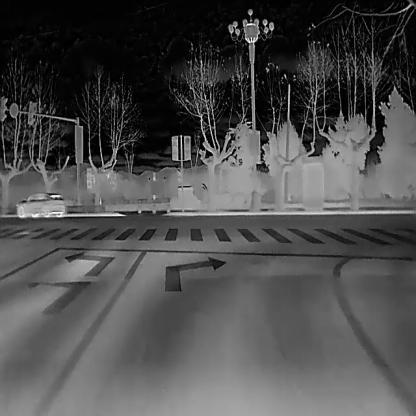car: (15, 192, 64, 219)
